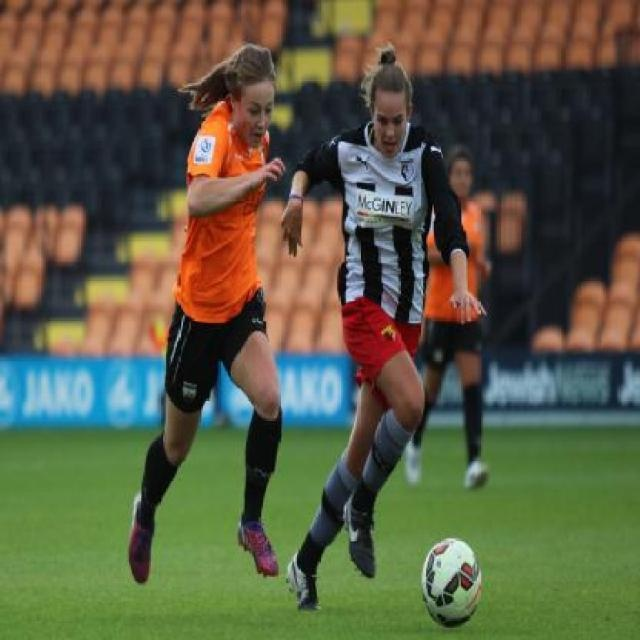obstacle: (280, 39, 486, 618), (138, 38, 294, 607), (422, 146, 496, 497)
